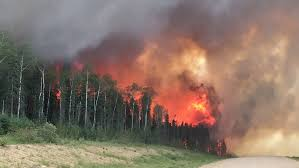fire: (142, 60, 229, 127)
